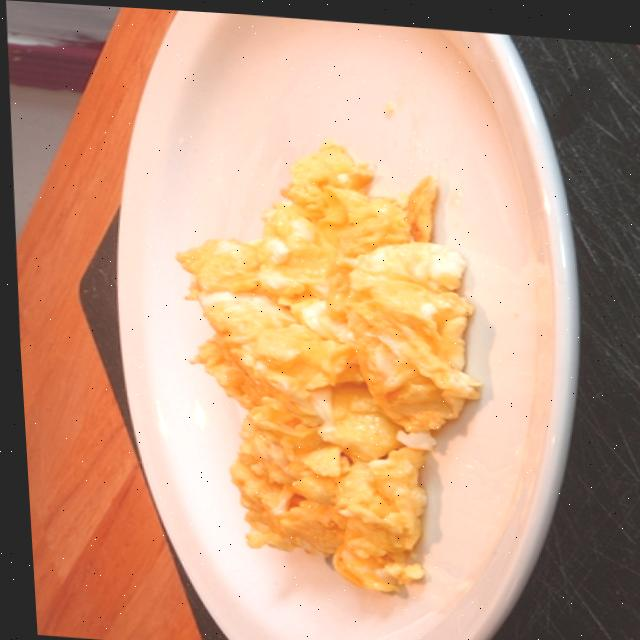鸡蛋料理: (44, 2, 587, 640)
